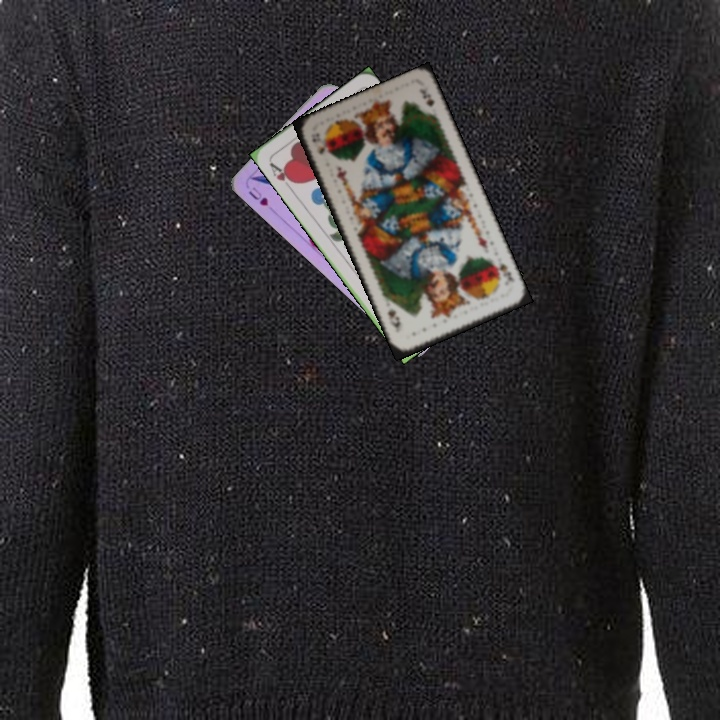HA: (265, 158, 299, 193)
HU: (244, 183, 271, 208)
SK: (488, 256, 517, 284), (307, 129, 328, 157)
